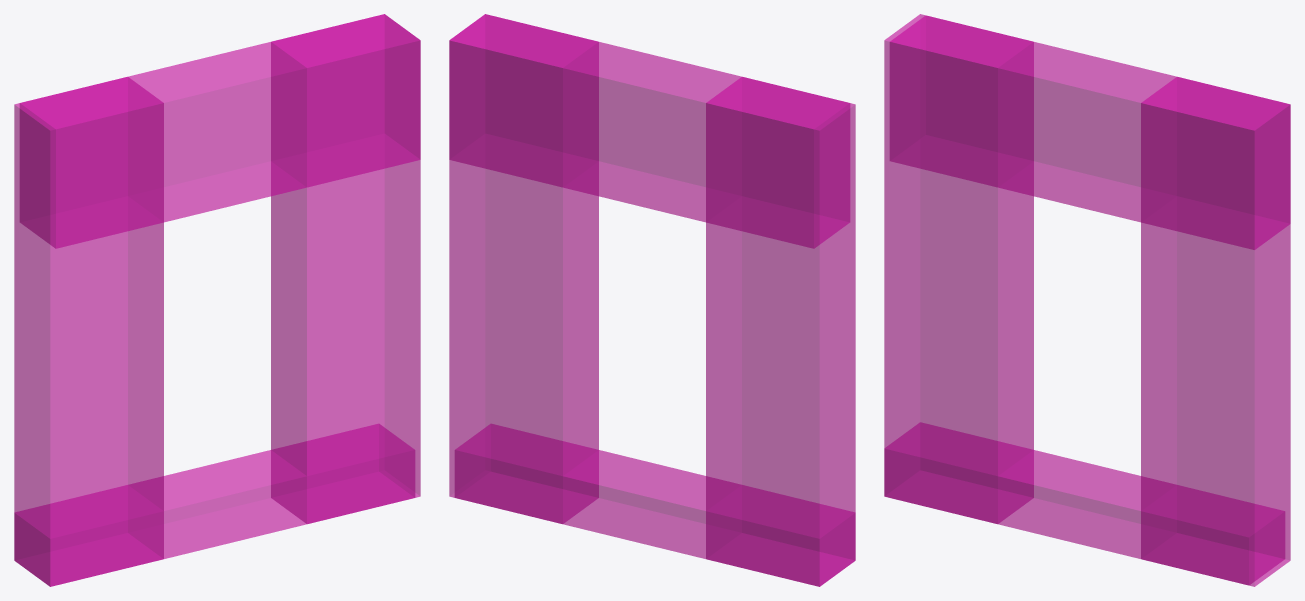
The model's file is SM_Bld_Wall_05_Collision.fbx.
3 views of the same model, side by side, from view 1: azimuth 30°, elevation 25°; view 2: azimuth 150°, elevation 25°; view 3: azimuth 330°, elevation 25° (orthographic).
Visible parts, largest first — view 1: SM_Bld_Wall_05_Collision; view 2: SM_Bld_Wall_05_Collision; view 3: SM_Bld_Wall_05_Collision.
Boxes of the visible parts, <box> form: SM_Bld_Wall_05_Collision: <box>14,14,420,586</box>; SM_Bld_Wall_05_Collision: <box>449,14,855,586</box>; SM_Bld_Wall_05_Collision: <box>884,14,1290,586</box>.
Bounding box in the file's own units: 256 × 301 × 43.11.
